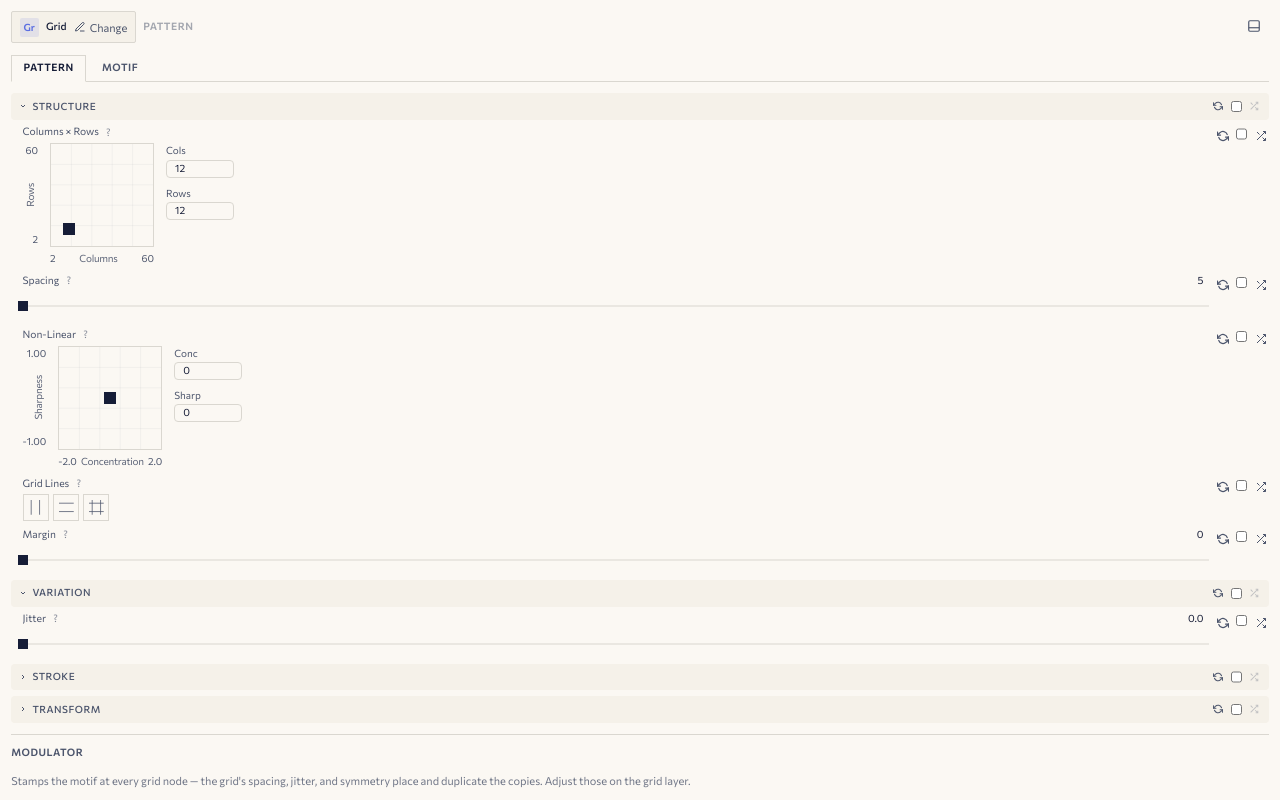
Test case: Inspector right-rail folder tabs › switches to the embedded (chevron-less) Motif device on tab click
Click the tab with test id "inspector-tab-motif" at (120, 68), box 90,54 -> 150,82
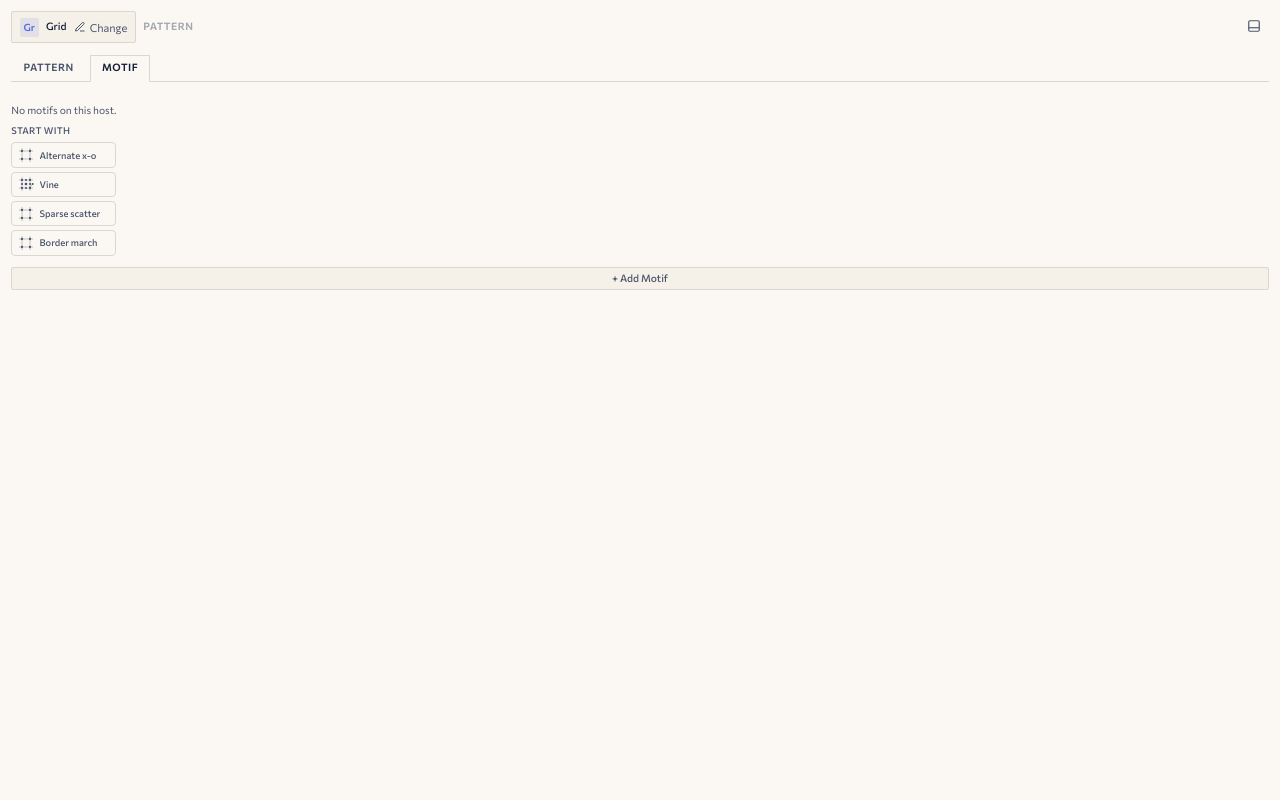
Check: the element with test id "motif-device" is shown, box 11,104 -> 1269,290
